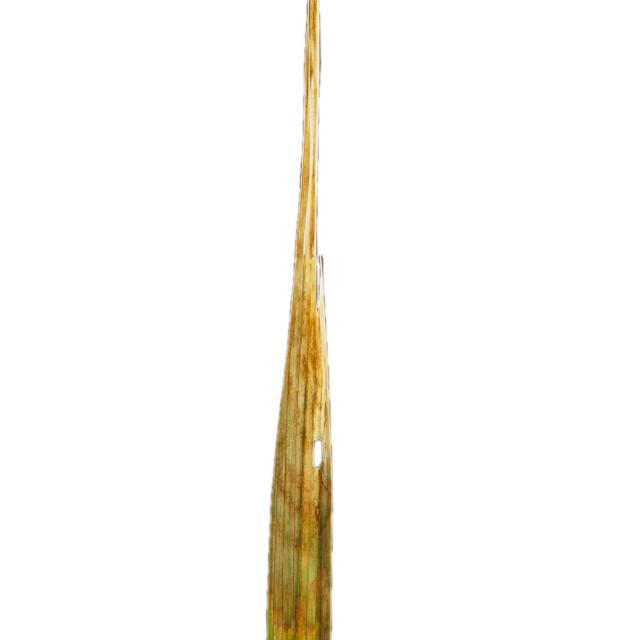Leaf scald: (264, 1, 396, 640)
